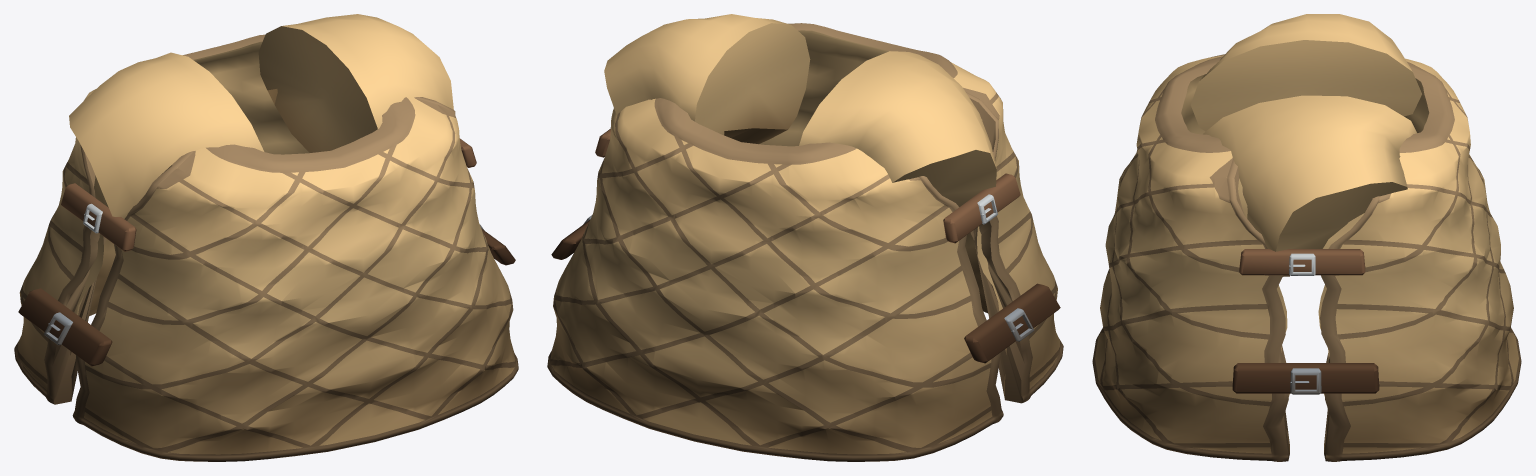
File: body_armor_light.glb
The picture shows the model from 3 angles, left to right: view 1: azimuth 30°, elevation 25°; view 2: azimuth 150°, elevation 25°; view 3: azimuth 270°, elevation 25°; orthographic projection. The views are drawn at different scales.
Visible parts, largest first — view 1: Item; view 2: Item; view 3: Item.
Part boxes in pixels (x1,y1,x2,y2): Item: [14, 14, 518, 461]; Item: [547, 14, 1063, 461]; Item: [1092, 14, 1521, 461].
Bounding box in the file's own units: 0.9624 × 0.6549 × 0.8478.
3 materials, 3 textured.
